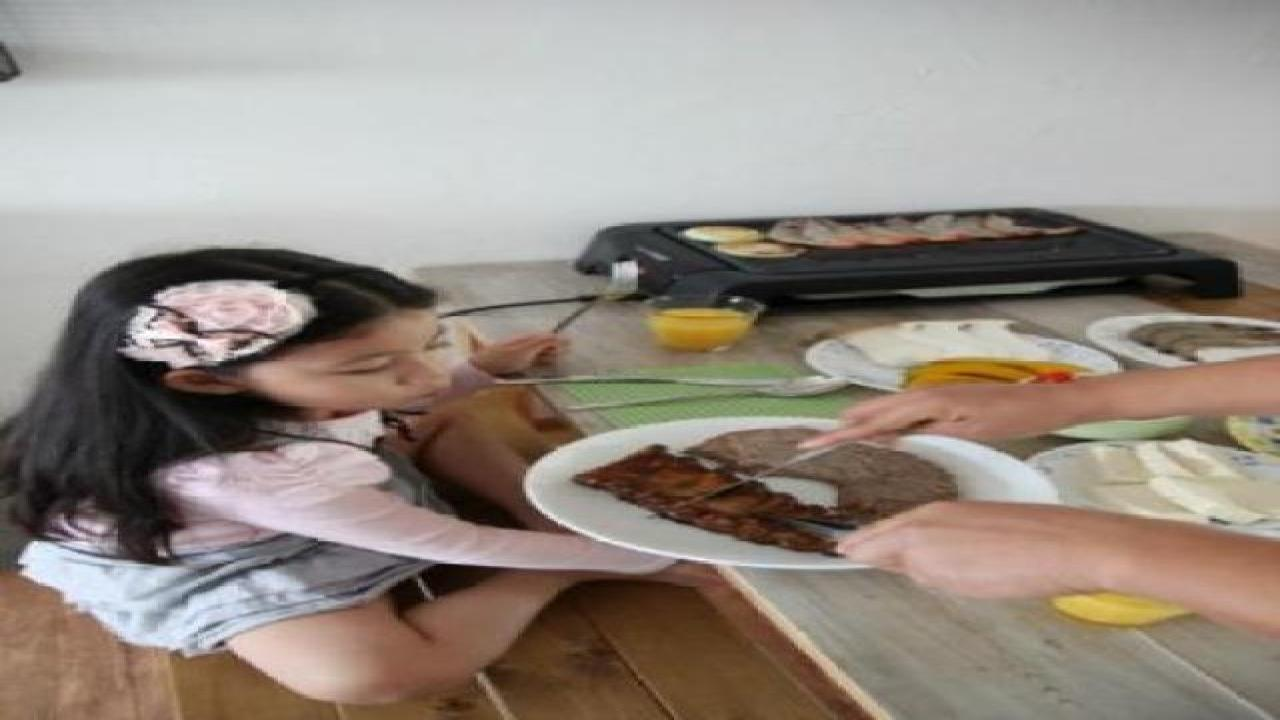Carne: (571, 446, 877, 563)
